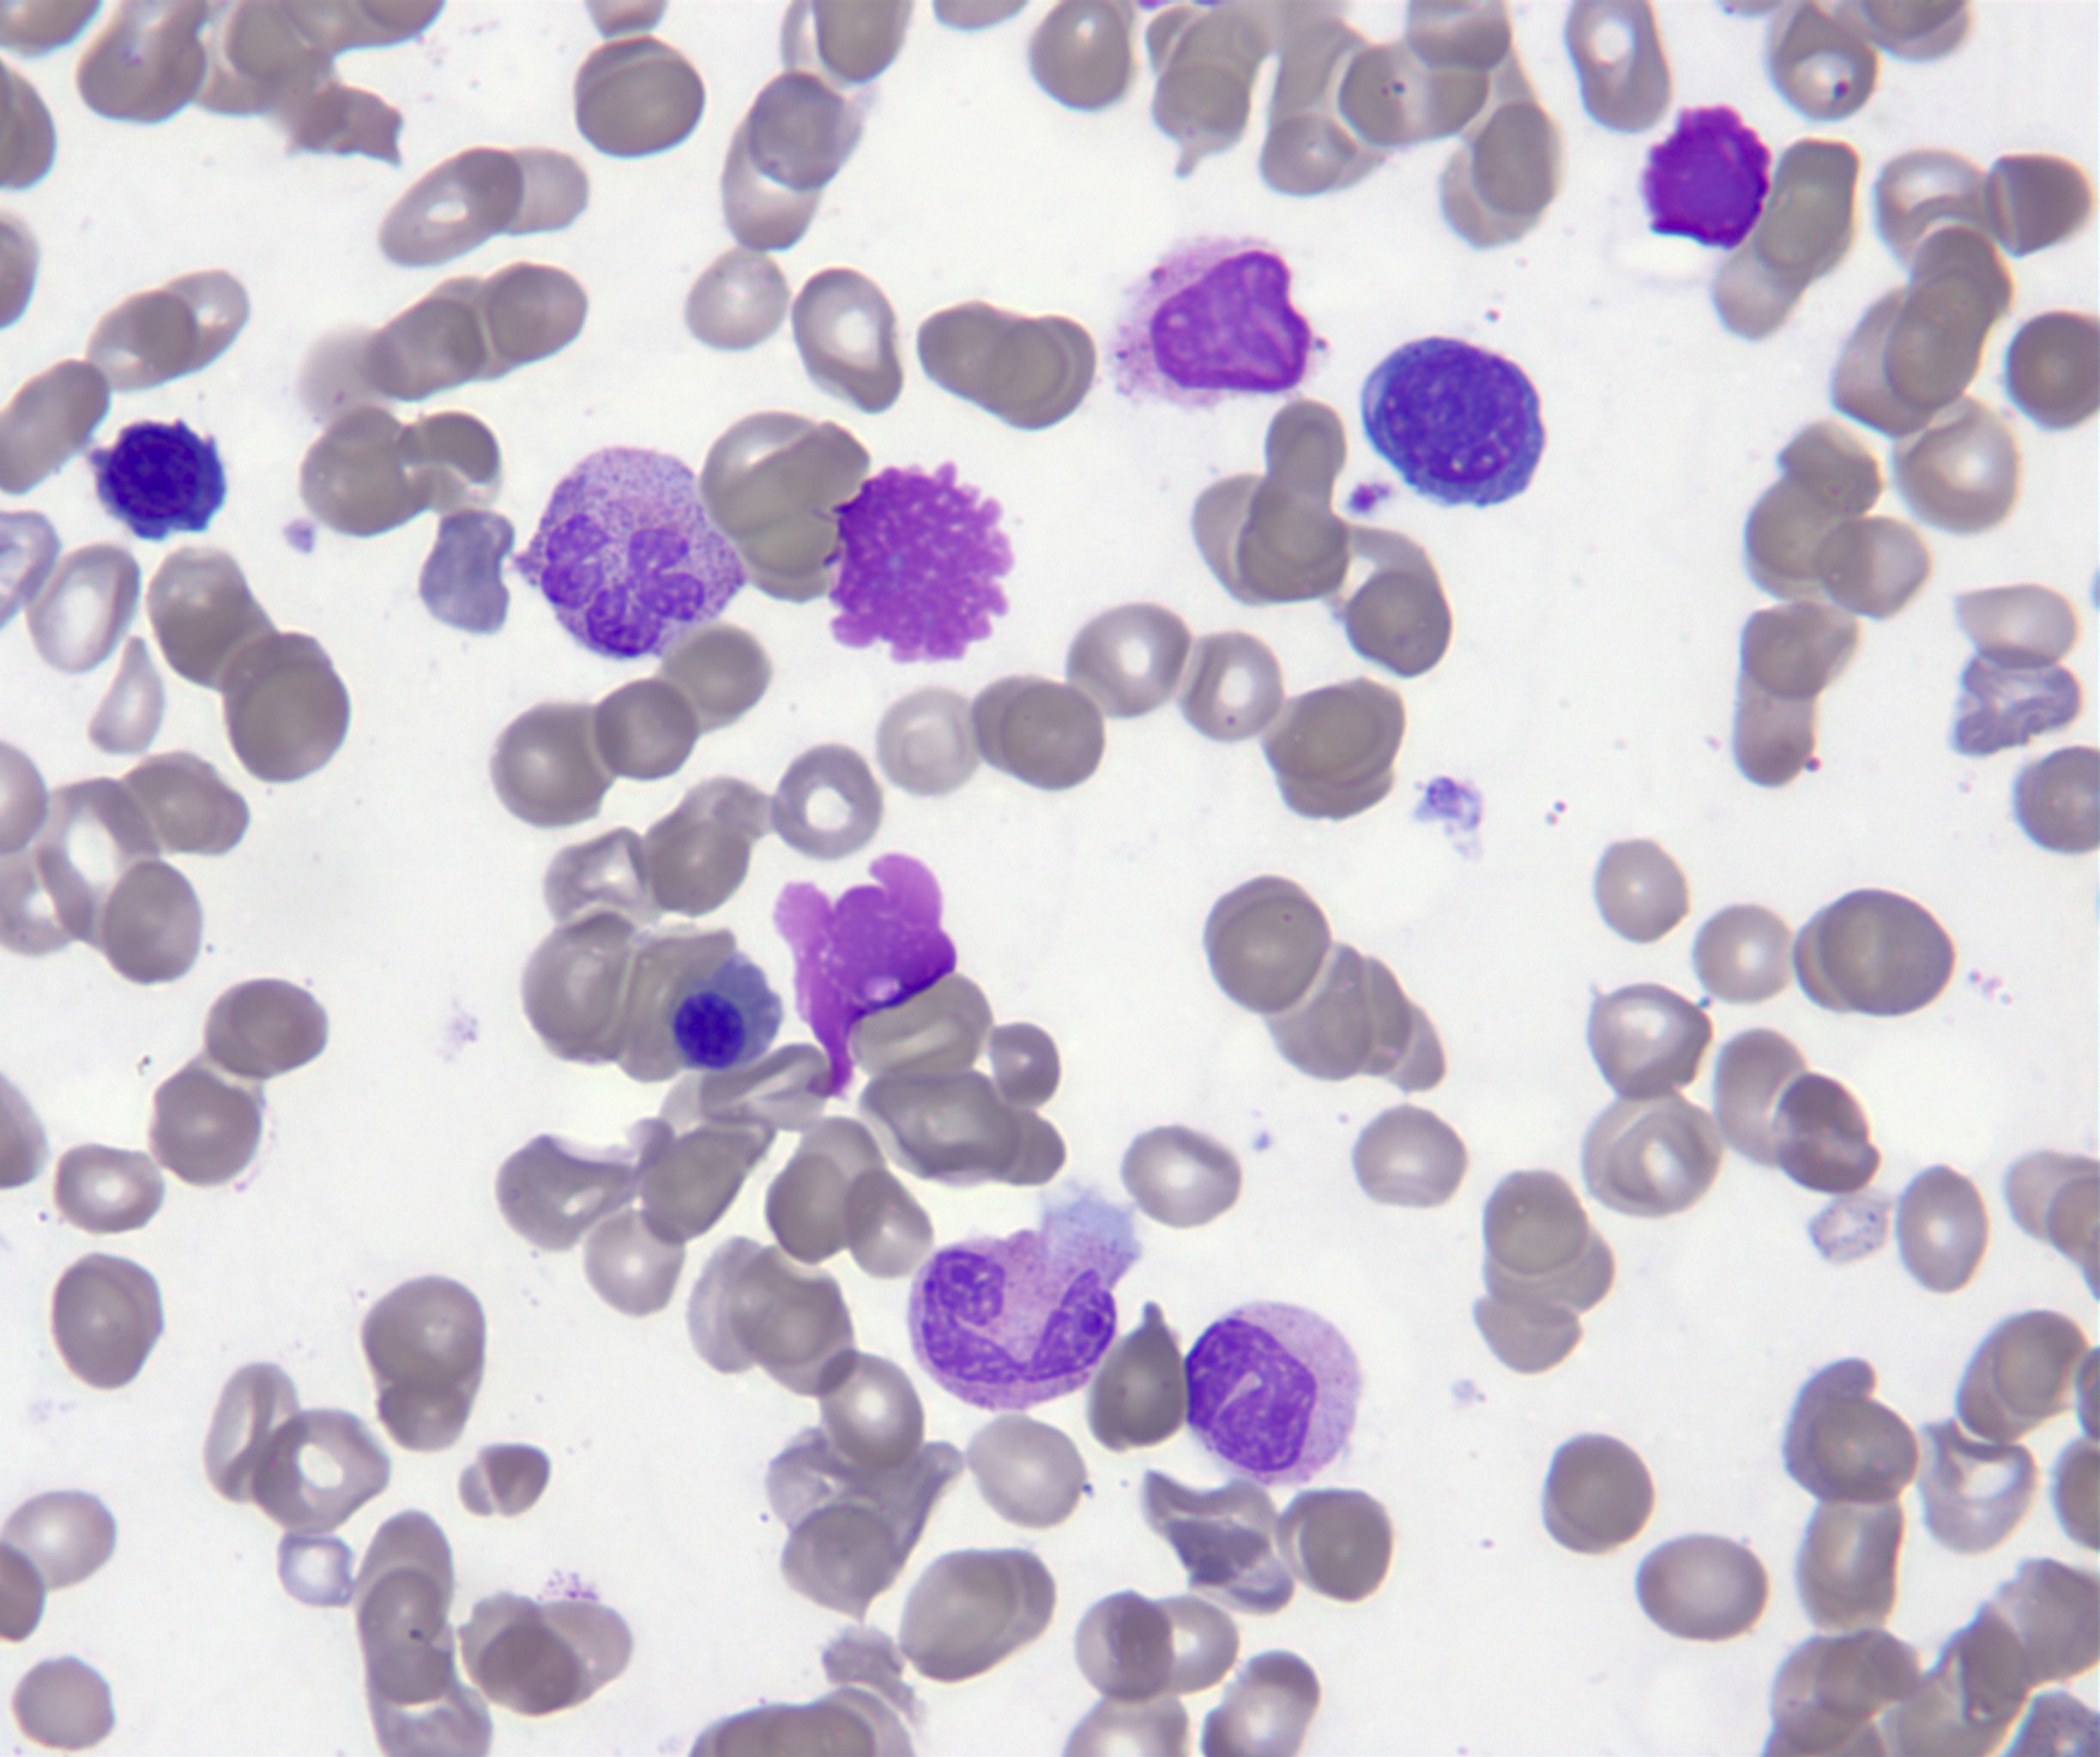23: (1362, 335, 1547, 506), (87, 419, 225, 544)
24: (663, 947, 785, 1073)
5: (1186, 1303, 1366, 1488)
6: (909, 1178, 1141, 1413), (508, 448, 748, 663)
x: (774, 855, 956, 1101), (816, 461, 1017, 663), (1106, 232, 1324, 412), (1640, 103, 1772, 253)
